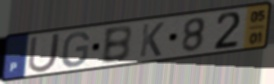2: (212, 11, 243, 52)
8: (180, 16, 208, 54)
B: (100, 24, 134, 66)
G: (60, 31, 91, 69)
K: (138, 21, 167, 59)
U: (26, 31, 64, 74)
